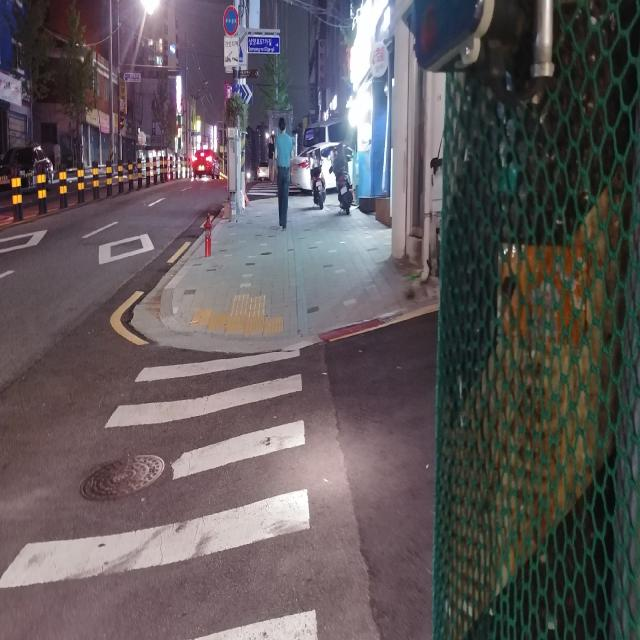횡단보도: (0, 348, 318, 639)
